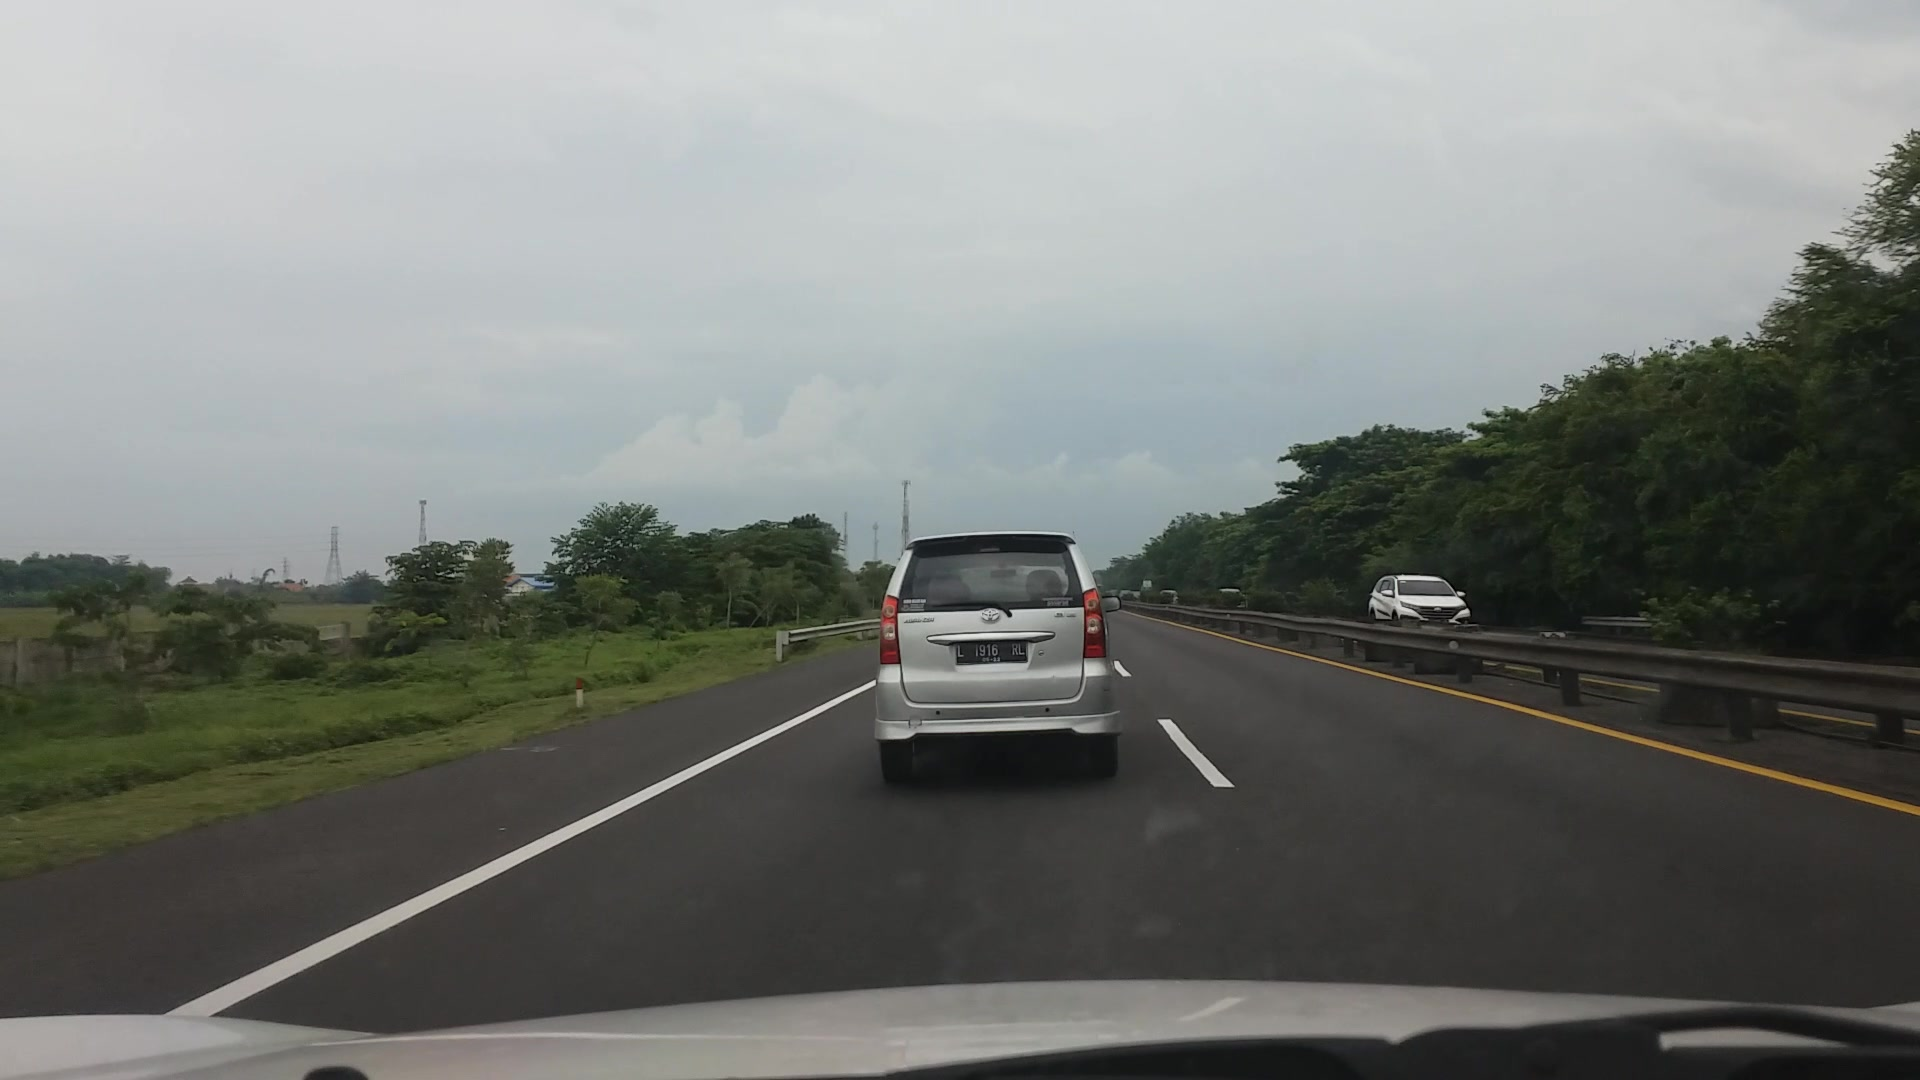plate_positive: (955, 640, 1029, 663)
